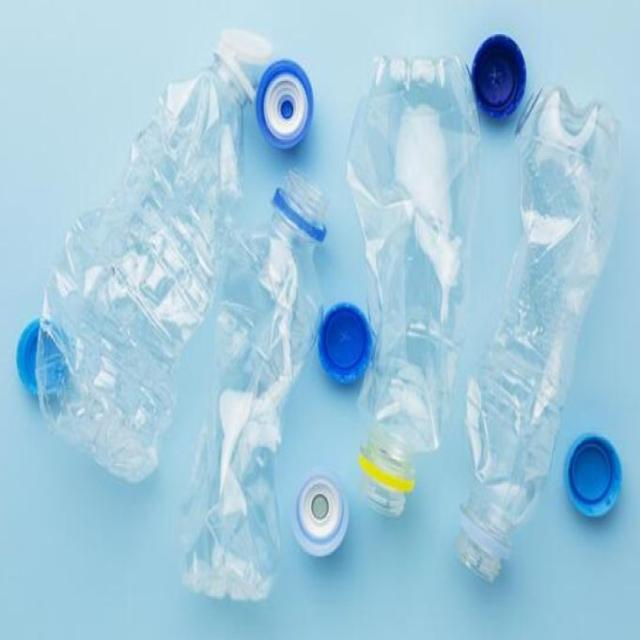general: (16, 25, 273, 484), (178, 168, 328, 602), (344, 50, 481, 518), (254, 57, 314, 150), (563, 432, 623, 520), (291, 472, 350, 559), (470, 31, 527, 121), (316, 299, 374, 386)
